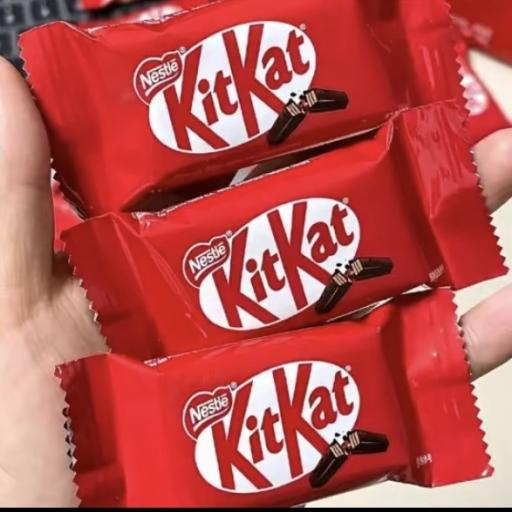kitkat: (16, 342, 511, 500)
